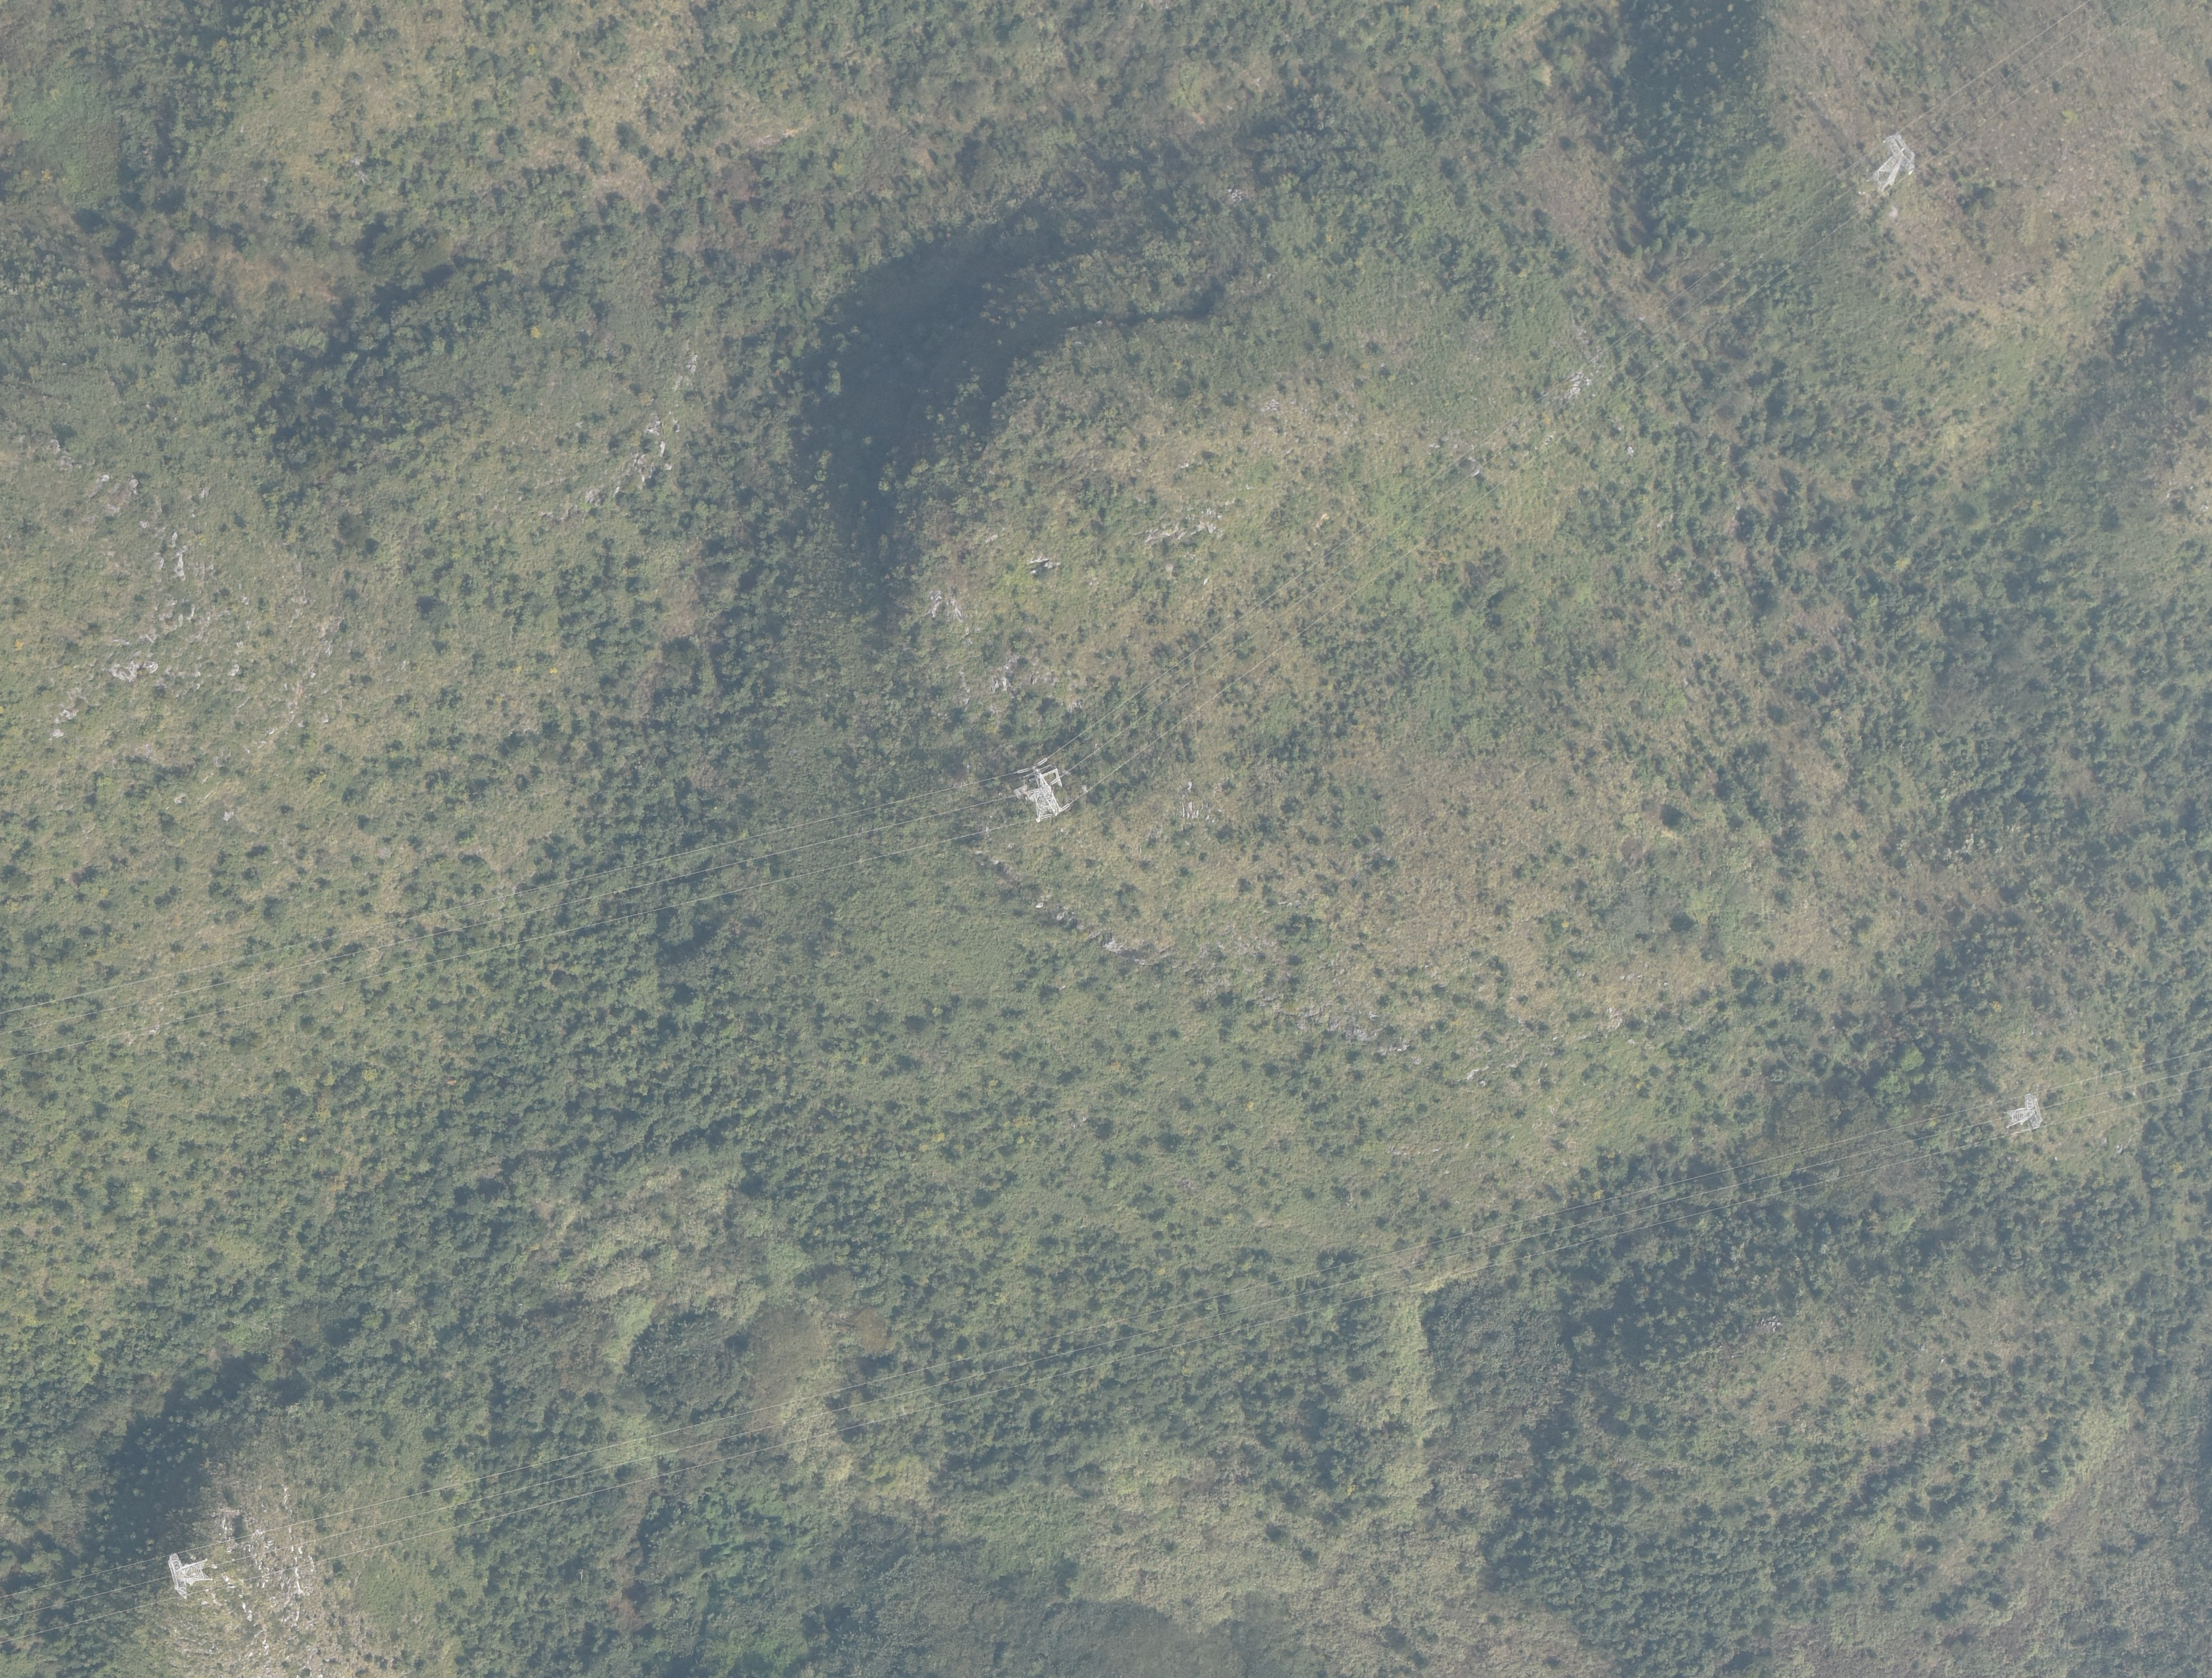cable-tower: (1017, 758, 1070, 821), (1874, 134, 1916, 197), (167, 1553, 213, 1599), (2004, 1095, 2043, 1128)
